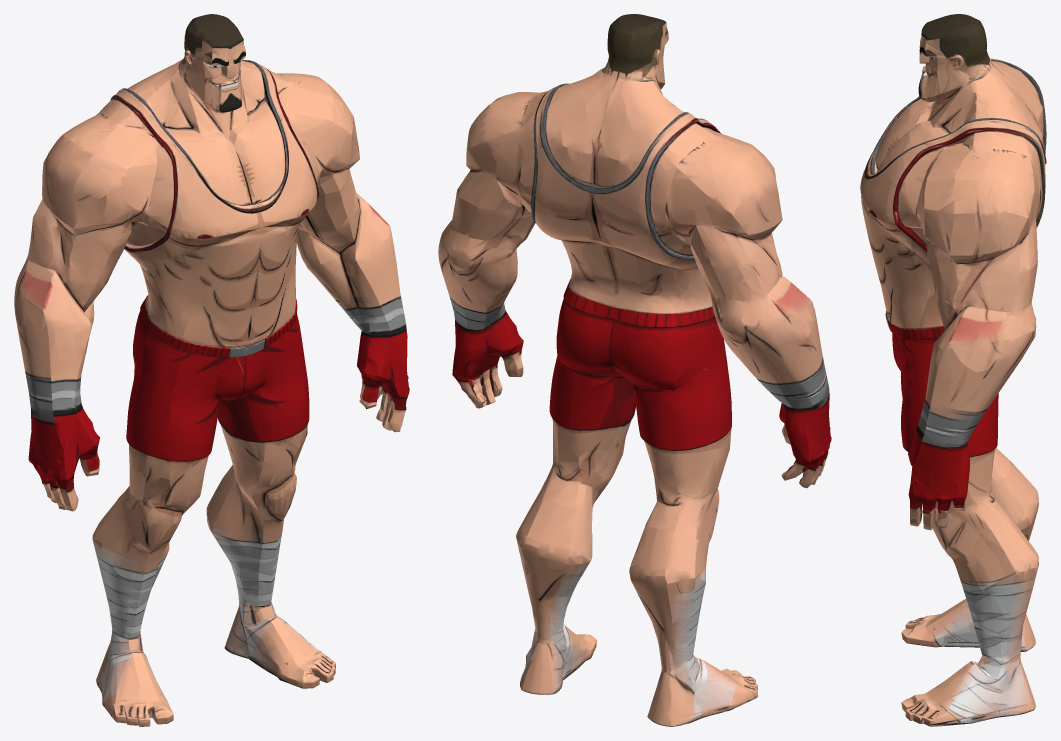
3 views of the same model, side by side, from view 1: azimuth 30°, elevation 25°; view 2: azimuth 150°, elevation 25°; view 3: azimuth 270°, elevation 25° (orthographic).
Bounding box in the file's own units: 1.1 × 1.9 × 0.4902.
1 material, 1 textured.
